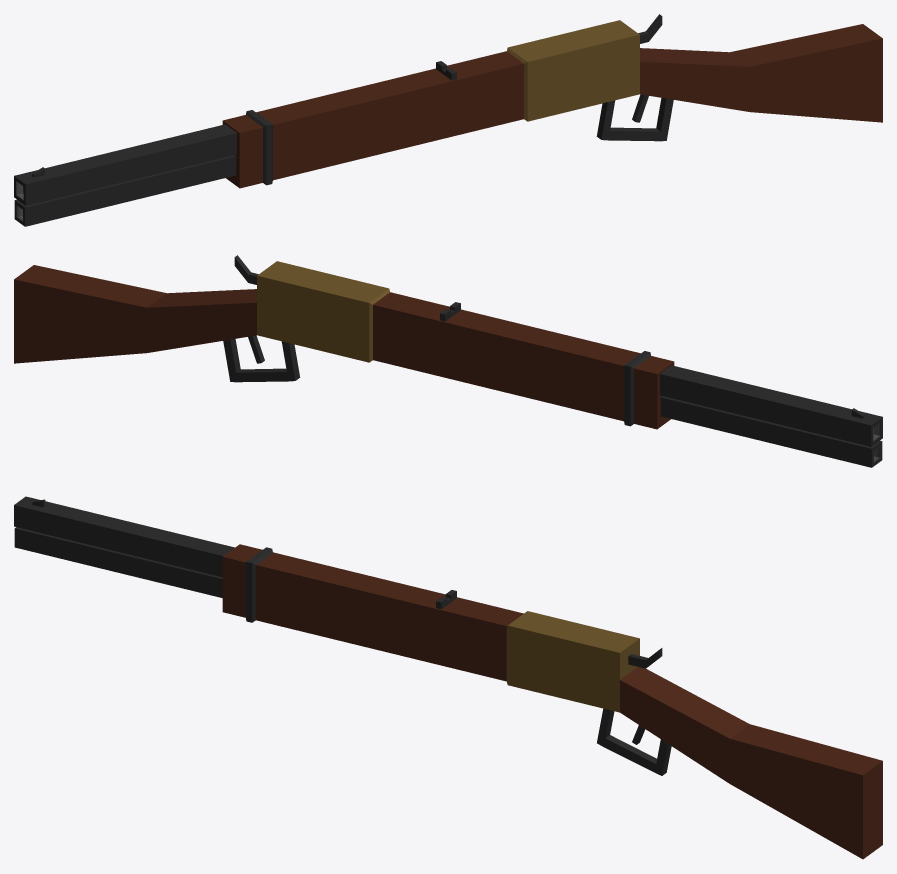
File: rifle.fbx
3 views of the same model, one above another, from view 1: azimuth 30°, elevation 25°; view 2: azimuth 150°, elevation 25°; view 3: azimuth 330°, elevation 25° (orthographic).
Visible parts, largest first — view 1: Rifle; view 2: Rifle; view 3: Rifle.
Boxes of the visible parts, x1=… form: Rifle: x1=14, y1=14, x2=882, y2=226; Rifle: x1=14, y1=255, x2=882, y2=467; Rifle: x1=14, y1=496, x2=882, y2=859.
Bounding box in the file's own units: 1.3 × 0.2216 × 0.0526.
